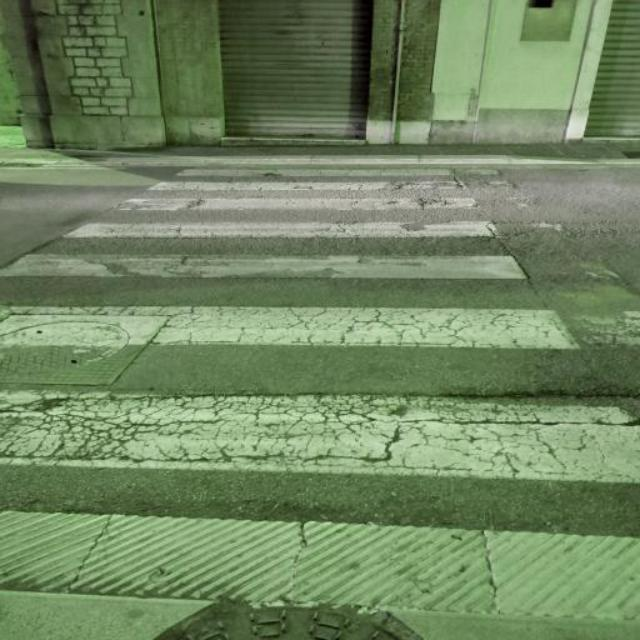sidewalk: (7, 163, 640, 626)
